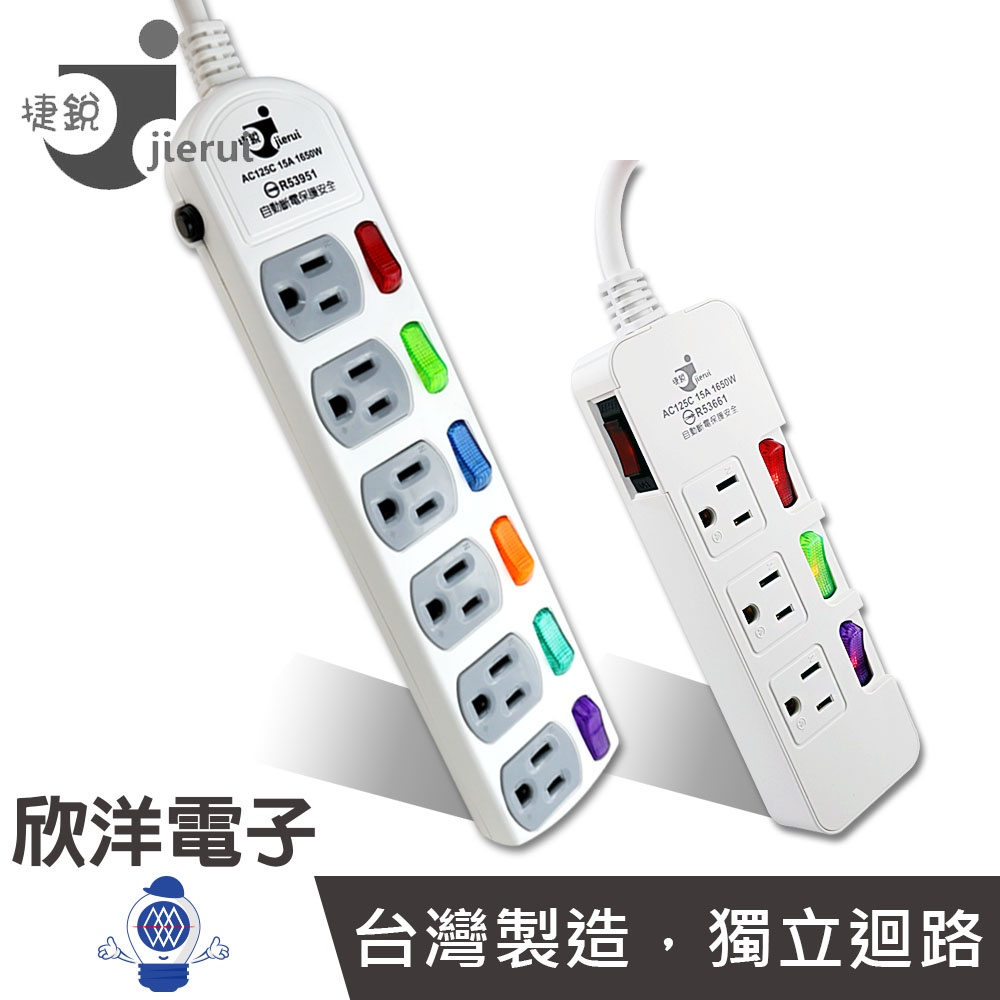socket: (160, 20, 621, 845), (568, 268, 922, 837)
